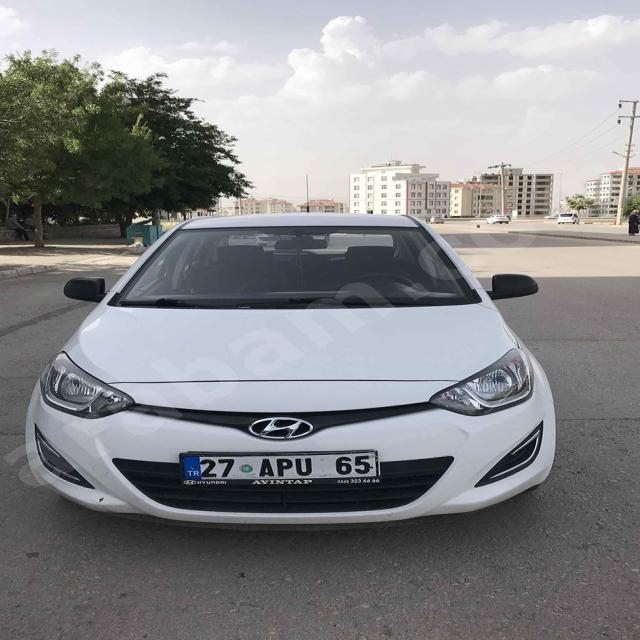license_plate: (180, 452, 378, 481)
